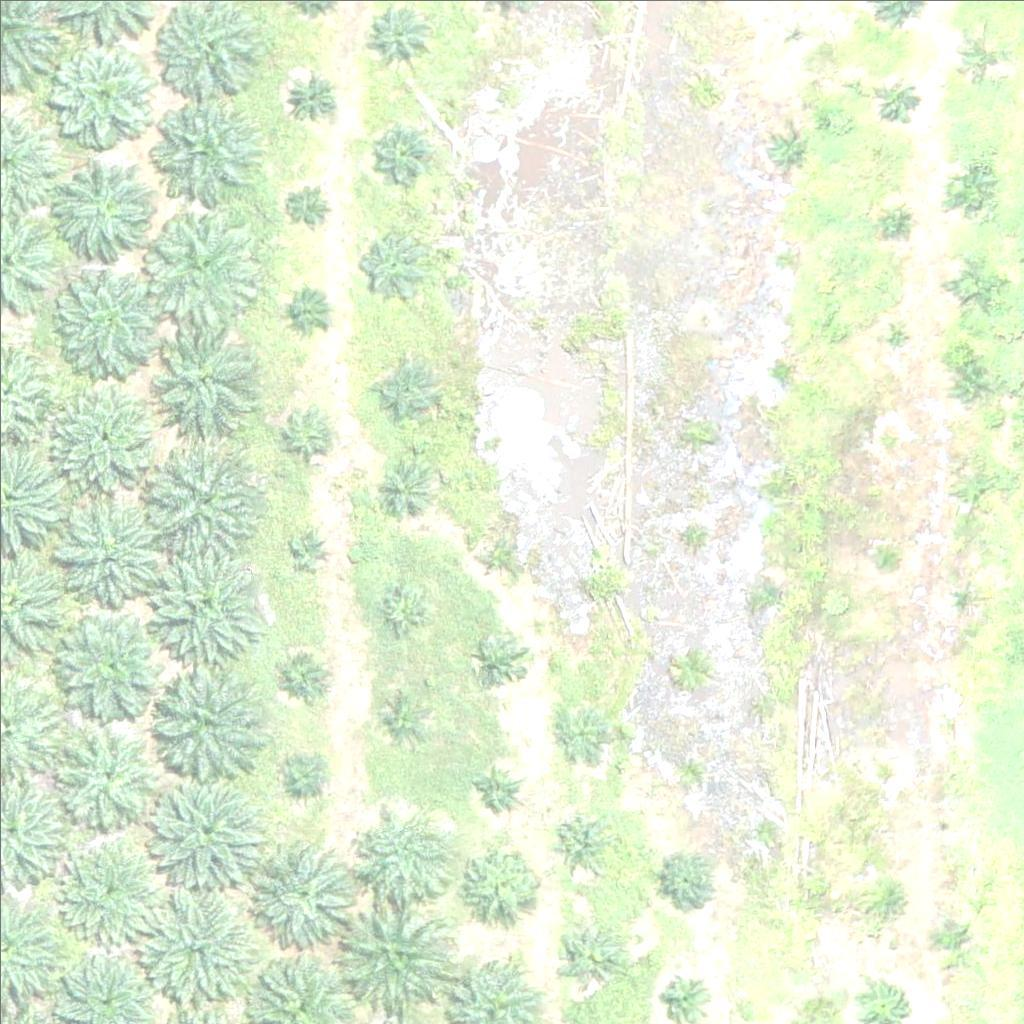Kelapa_Sawit: (136, 890, 249, 1004), (47, 36, 160, 150), (143, 204, 256, 318), (250, 835, 363, 948), (146, 546, 259, 659), (145, 444, 258, 557), (145, 329, 258, 442), (58, 835, 171, 948), (53, 260, 166, 373), (337, 890, 449, 1004), (151, 85, 263, 199), (149, 769, 261, 882), (149, 657, 261, 770), (52, 608, 164, 721), (45, 723, 157, 836), (48, 389, 148, 490), (52, 503, 152, 604), (49, 157, 149, 257), (460, 836, 547, 924), (360, 809, 447, 897), (354, 230, 429, 305), (549, 809, 612, 872), (654, 850, 717, 913), (370, 115, 433, 178), (280, 65, 343, 128), (556, 919, 618, 982), (942, 153, 1004, 216), (371, 455, 433, 518), (372, 358, 434, 421), (370, 4, 432, 67), (462, 757, 524, 820), (943, 252, 1005, 315), (661, 971, 711, 1022), (281, 410, 331, 461), (927, 912, 977, 963), (865, 877, 915, 928), (285, 286, 335, 337), (873, 72, 923, 123), (555, 703, 605, 753), (479, 639, 529, 689), (377, 583, 427, 633), (376, 692, 426, 742), (958, 28, 1008, 78), (281, 179, 331, 229), (279, 751, 329, 801), (278, 648, 328, 698), (759, 125, 809, 175), (474, 537, 512, 575), (291, 528, 329, 566), (873, 315, 911, 353), (949, 363, 987, 401), (953, 472, 991, 510), (945, 578, 982, 616), (884, 211, 909, 237), (872, 551, 897, 576), (875, 760, 900, 785), (780, 22, 805, 47)
